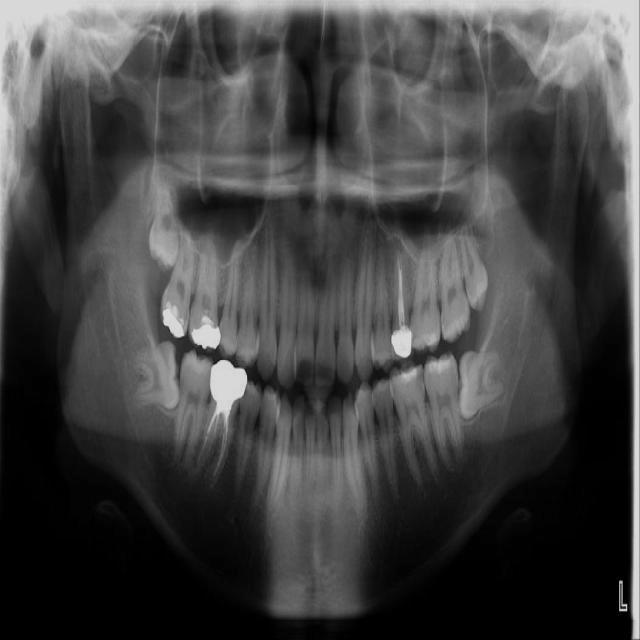Crown: (210, 360, 247, 414), (391, 316, 415, 367)
Filling: (190, 312, 221, 347), (163, 303, 186, 337), (391, 366, 422, 391), (426, 357, 454, 377)
Root Canal Treatment: (194, 407, 218, 465), (211, 409, 228, 476), (398, 269, 403, 325)
impacted tooth: (118, 340, 178, 409), (460, 349, 508, 422), (149, 164, 177, 267)
